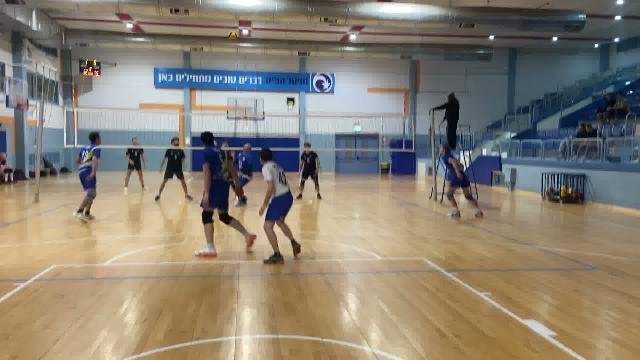ball: (224, 29, 239, 41)
